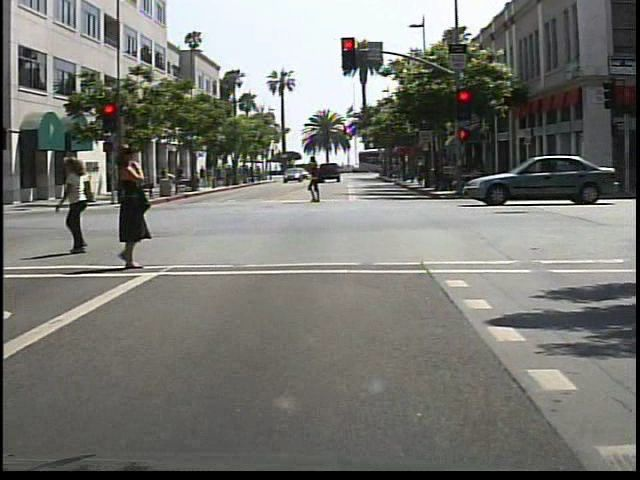person: (108, 138, 165, 272), (57, 156, 107, 257), (303, 155, 331, 205), (2, 147, 7, 277), (169, 162, 185, 191)
